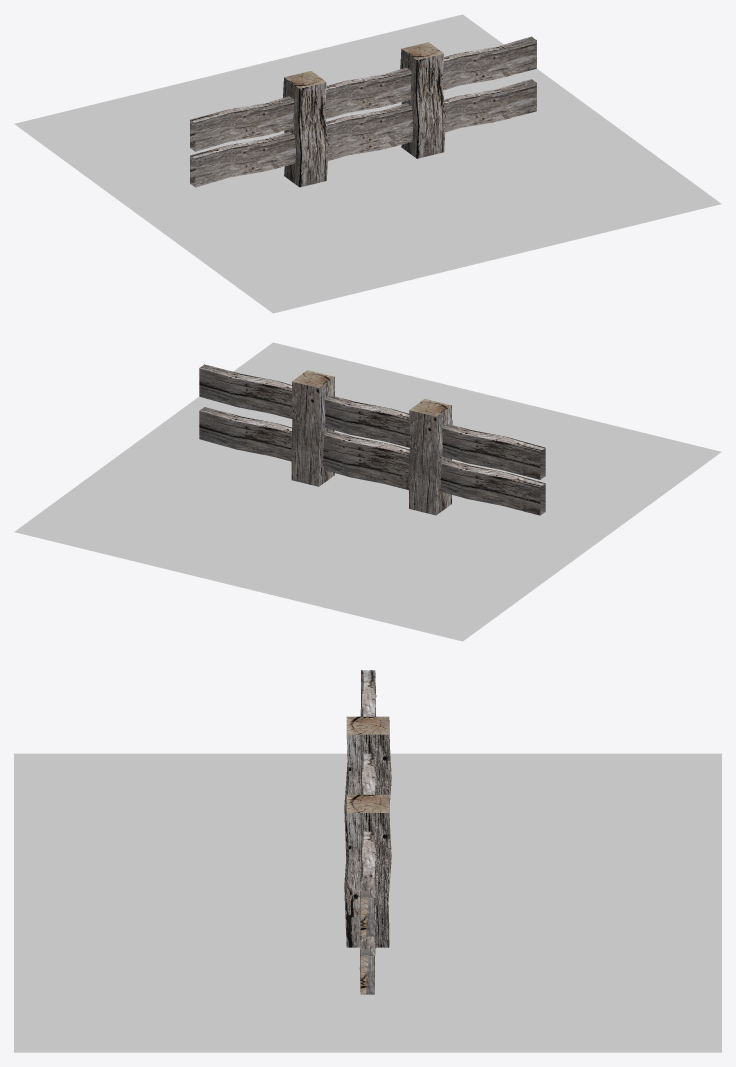
File: fenceCon.fbx
3 renders of one model, top to bottom at view 1: azimuth 30°, elevation 25°; view 2: azimuth 150°, elevation 25°; view 3: azimuth 270°, elevation 25°, orthographic. The views are drawn at different scales.
Visible parts, largest first — view 1: Plane, Cube.008, Cube.001, Cube.009, Cube.010, Cube.012, Cube.011, Cube.004, Cube.003, Cube.002; view 2: Plane, Cube.008, Cube.001, Cube.009, Cube.010, Cube.012, Cube.011, Cube.004, Cube.002, Cube.003; view 3: Plane, Cube.001, Cube.008, Cube.012, Cube.011, Cube.010, Cube.004.
Boxes of the visible parts, <box> form: Plane: <box>14,14,721,313</box>; Cube.008: <box>283,71,328,187</box>; Cube.001: <box>400,42,445,158</box>; Cube.009: <box>190,132,295,187</box>; Cube.010: <box>190,96,294,151</box>; Cube.012: <box>442,36,536,90</box>; Cube.011: <box>444,79,536,132</box>; Cube.004: <box>325,67,411,119</box>; Cube.003: <box>326,103,413,154</box>; Cube.002: <box>327,121,413,161</box>; Plane: <box>14,342,721,641</box>; Cube.008: <box>408,399,452,515</box>; Cube.001: <box>291,370,334,486</box>; Cube.009: <box>440,459,545,515</box>; Cube.010: <box>442,423,545,479</box>; Cube.012: <box>199,364,292,419</box>; Cube.011: <box>199,407,291,461</box>; Cube.004: <box>324,395,409,447</box>; Cube.002: <box>323,442,409,490</box>; Cube.003: <box>323,430,409,483</box>; Plane: <box>14,753,721,1052</box>; Cube.001: <box>344,794,391,947</box>; Cube.008: <box>344,716,391,858</box>; Cube.012: <box>359,831,376,936</box>; Cube.011: <box>359,891,376,994</box>; Cube.010: <box>360,670,376,716</box>; Cube.004: <box>360,753,376,794</box>.
Bounding box in the file's own units: 952 × 202 × 952.
